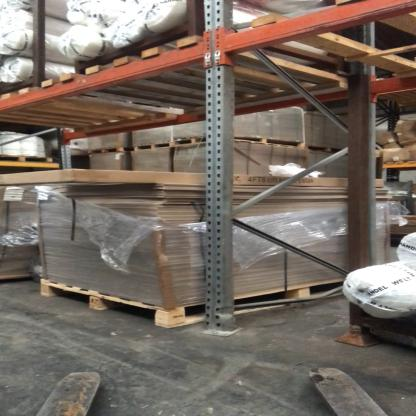vertical_damage: (197, 297, 250, 340)
